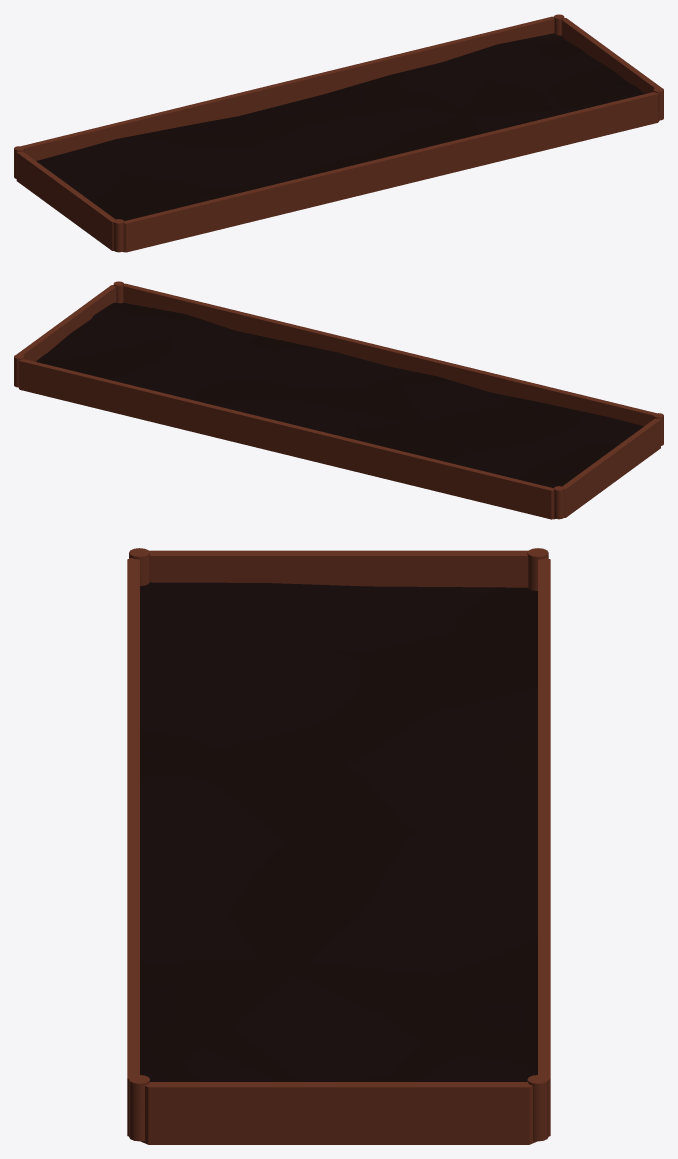
Rendered from mod_planter_a.glb.
3 renders of one model, top to bottom at view 1: azimuth 30°, elevation 25°; view 2: azimuth 150°, elevation 25°; view 3: azimuth 270°, elevation 25°, orthographic. The views are drawn at different scales.
Visible parts, largest first — view 1: planter_soil, planter_wood; view 2: planter_soil, planter_wood; view 3: planter_soil, planter_wood.
Boxes of the visible parts, bbox=[...] form: planter_soil: bbox=[36, 33, 644, 220]; planter_wood: bbox=[14, 14, 663, 252]; planter_soil: bbox=[36, 302, 643, 488]; planter_wood: bbox=[14, 281, 663, 519]; planter_soil: bbox=[140, 582, 537, 1081]; planter_wood: bbox=[127, 548, 550, 1144].
Bounding box in the file's own units: 3 × 0.1566 × 1.
